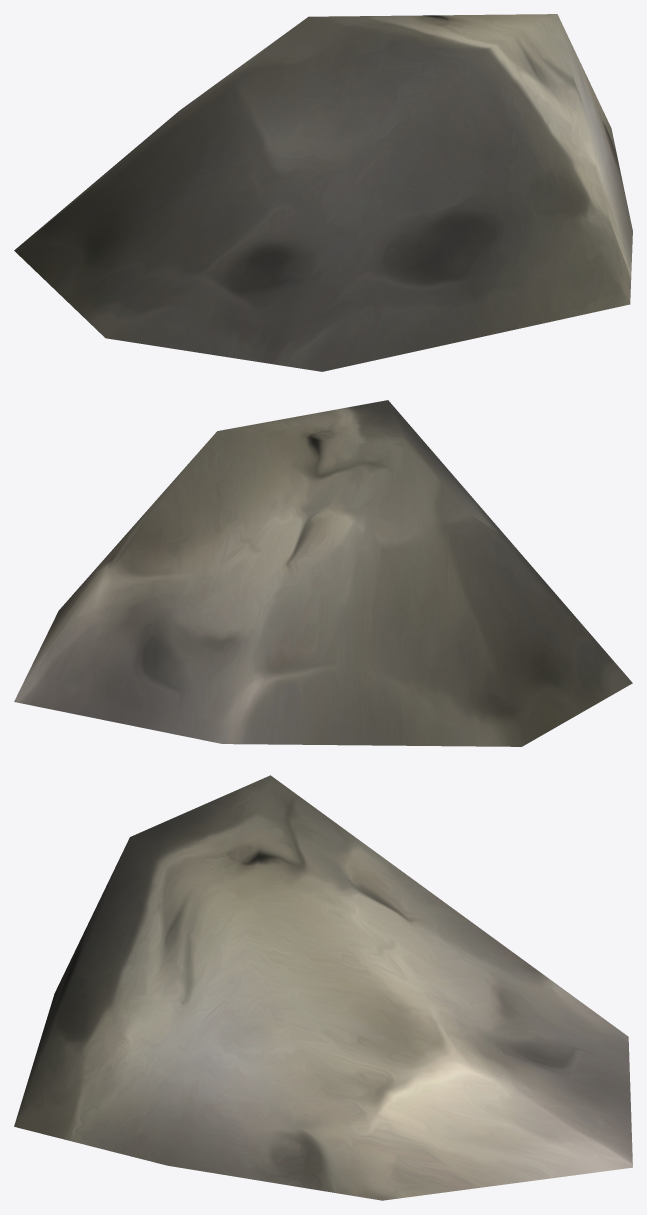
File: stone4.fbx
The picture shows the model from 3 angles, top to bottom: view 1: azimuth 30°, elevation 25°; view 2: azimuth 150°, elevation 25°; view 3: azimuth 270°, elevation 25°; orthographic projection. The views are drawn at different scales.
Parts seen in each view (by area): view 1: Group9859; view 2: Group9859; view 3: Group9859.
Boxes of the visible parts, left/top/right/bottom form: Group9859: left=14, top=14, right=632, bottom=371; Group9859: left=14, top=400, right=632, bottom=746; Group9859: left=14, top=775, right=632, bottom=1200.
Bounding box in the file's own units: 41.6 × 17.23 × 36.6.
Materials: 1 (1 with a texture image).
